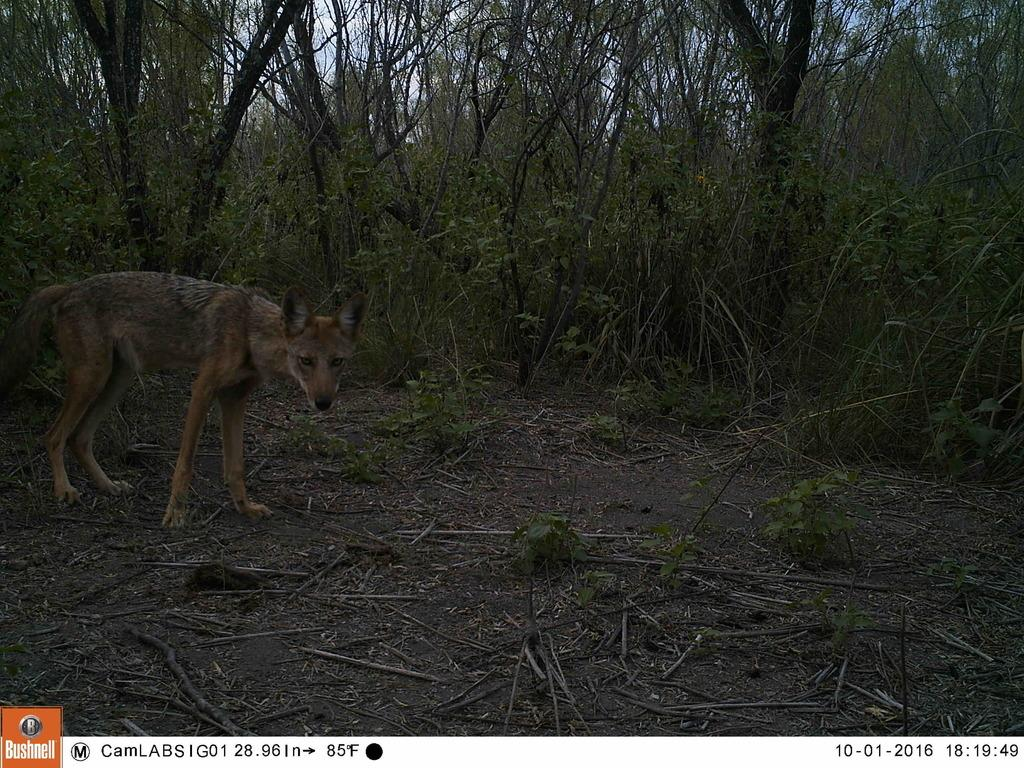Coyote: (10, 267, 373, 536)
